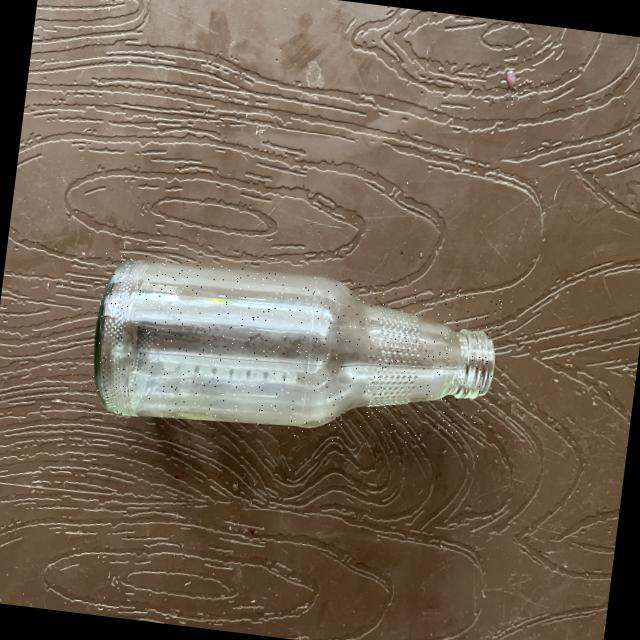Glass_Bottle: (93, 261, 493, 427)
